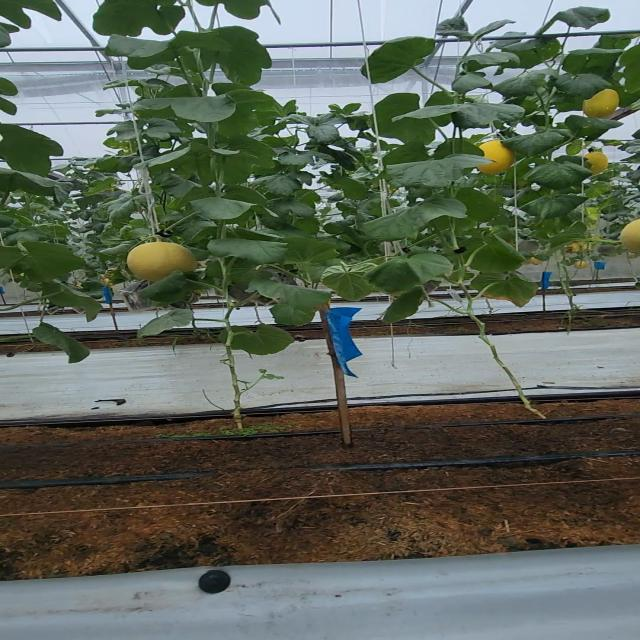Rear-melon: (127, 244, 192, 279), (586, 89, 622, 117)
